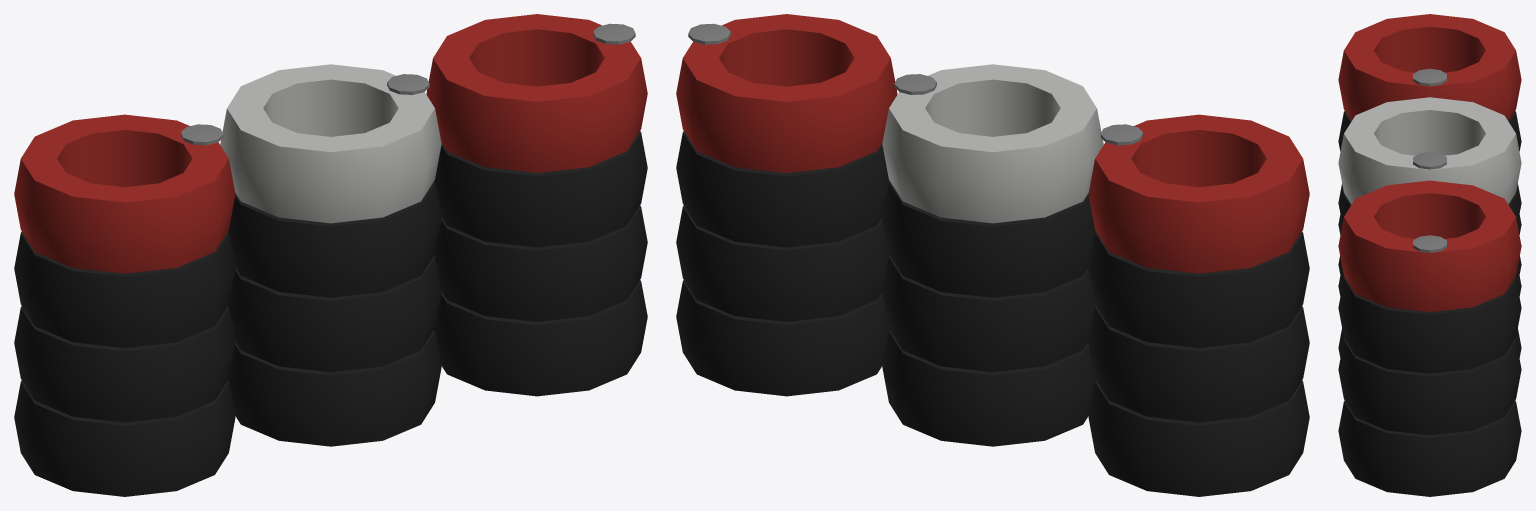
Rendered from SM_Prop_tyre_wall_0.glb.
The picture shows the model from 3 angles, left to right: view 1: azimuth 30°, elevation 25°; view 2: azimuth 150°, elevation 25°; view 3: azimuth 270°, elevation 25°; orthographic projection. The views are drawn at different scales.
Visible parts, largest first — view 1: SM_Prop_tyre_wall_0; view 2: SM_Prop_tyre_wall_0; view 3: SM_Prop_tyre_wall_0.
Boxes of the visible parts, bbox=[...] form: SM_Prop_tyre_wall_0: bbox=[14, 14, 647, 496]; SM_Prop_tyre_wall_0: bbox=[676, 14, 1309, 496]; SM_Prop_tyre_wall_0: bbox=[1338, 14, 1521, 496].
Size of the model in its own units: 1.95 by 0.935 by 0.62.
